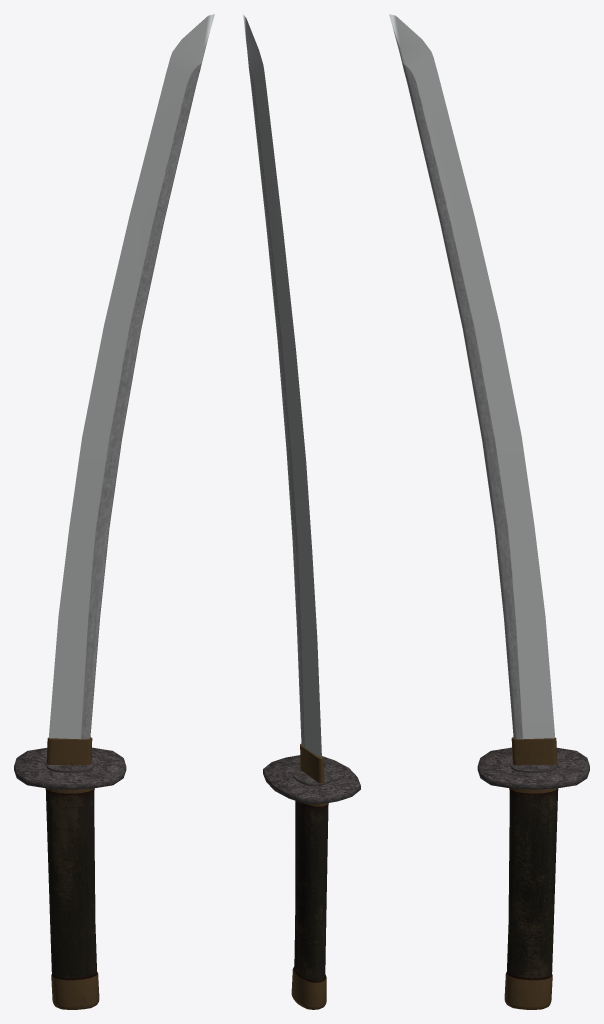
Rendered from SM_Hwando01a.fbx.
The picture shows the model from 3 angles, left to right: view 1: azimuth 90°, elevation 25°; view 2: azimuth 210°, elevation 25°; view 3: azimuth 270°, elevation 25°; orthographic projection. The views are drawn at different scales.
Visible parts, largest first — view 1: SM_Hwando01a; view 2: SM_Hwando01a; view 3: SM_Hwando01a.
Part boxes in pixels (box(x1,y1,x2,y2)): SM_Hwando01a: box(14, 14, 214, 1009); SM_Hwando01a: box(243, 14, 360, 1009); SM_Hwando01a: box(389, 14, 589, 1009).
Size of the model in its own units: 7.44 by 16.39 by 89.2.
